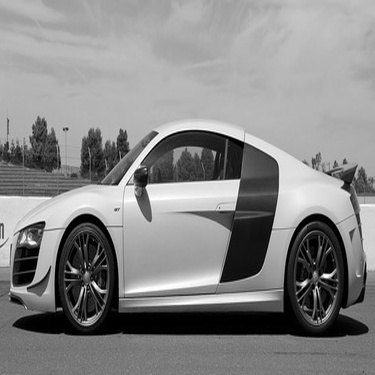car: (2, 113, 368, 339)
